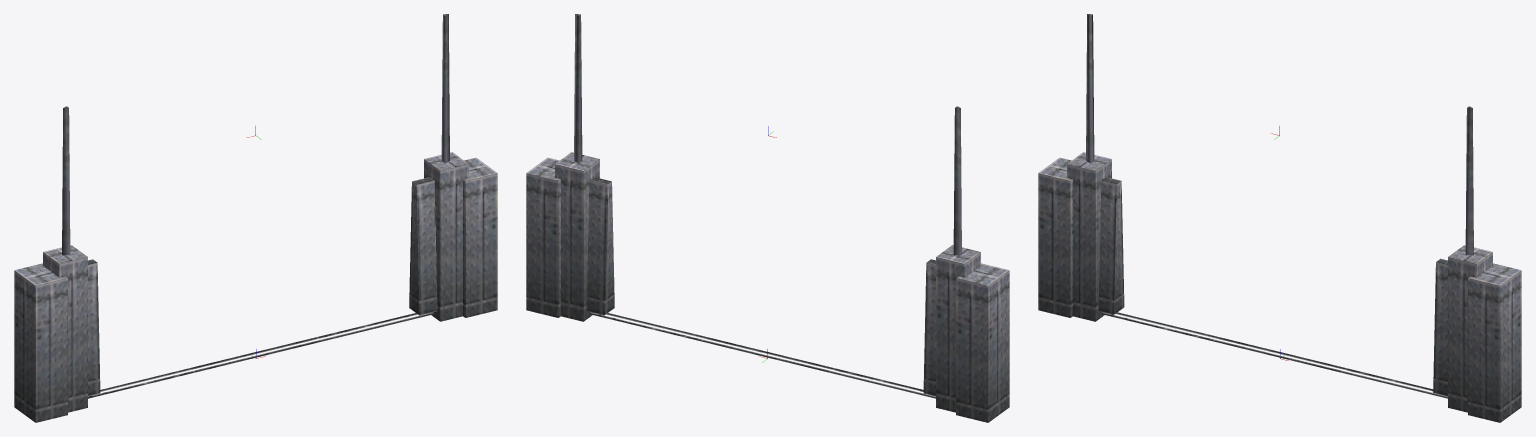
Rendered from greek-gate-open.glb.
3 renders of one model, left to right at view 1: azimuth 30°, elevation 25°; view 2: azimuth 150°, elevation 25°; view 3: azimuth 330°, elevation 25°, orthographic.
Visible parts, largest first — view 1: building g gate_openModel; view 2: building g gate_openModel; view 3: building g gate_openModel.
Boxes of the visible parts, <box> form: building g gate_openModel: <box>14,14,497,422</box>; building g gate_openModel: <box>526,14,1009,422</box>; building g gate_openModel: <box>1038,14,1521,422</box>.
Bounding box in the file's own units: 12.12 × 7.47 × 0.9727.
Materials: 2 (1 with a texture image).
